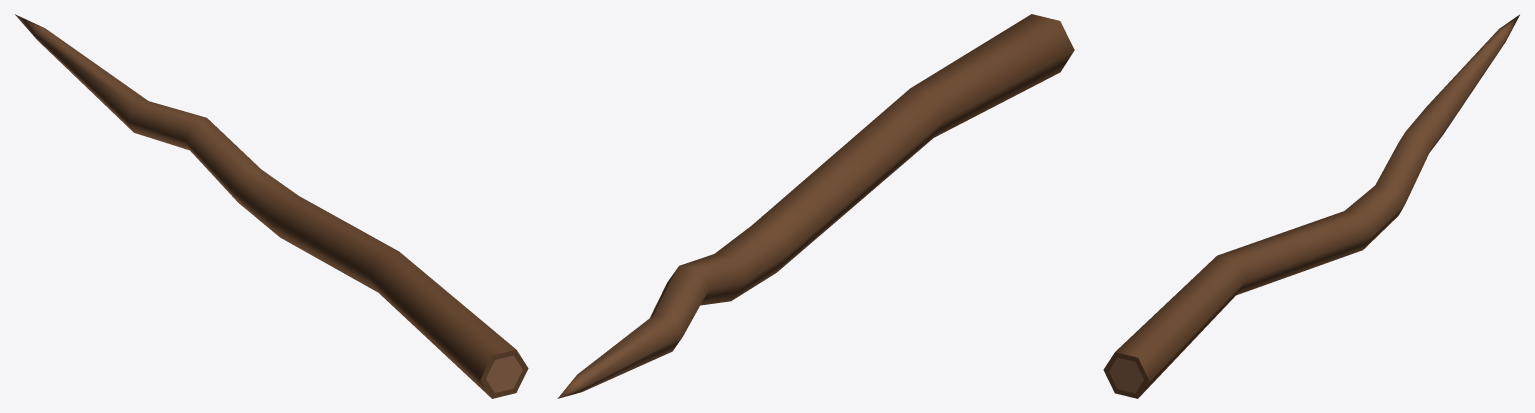
Rendered from BranchLarge.fbx.
3 views of the same model, side by side, from view 1: azimuth 30°, elevation 25°; view 2: azimuth 150°, elevation 25°; view 3: azimuth 330°, elevation 25° (orthographic). The views are drawn at different scales.
Visible parts, largest first — view 1: BranchLarge; view 2: BranchLarge; view 3: BranchLarge.
Part boxes in pixels (x1,y1,x2,y2): BranchLarge: (15,14,528,398); BranchLarge: (557,14,1074,398); BranchLarge: (1103,14,1519,398).
Bounding box in the file's own units: 12.46 × 11.57 × 135.
